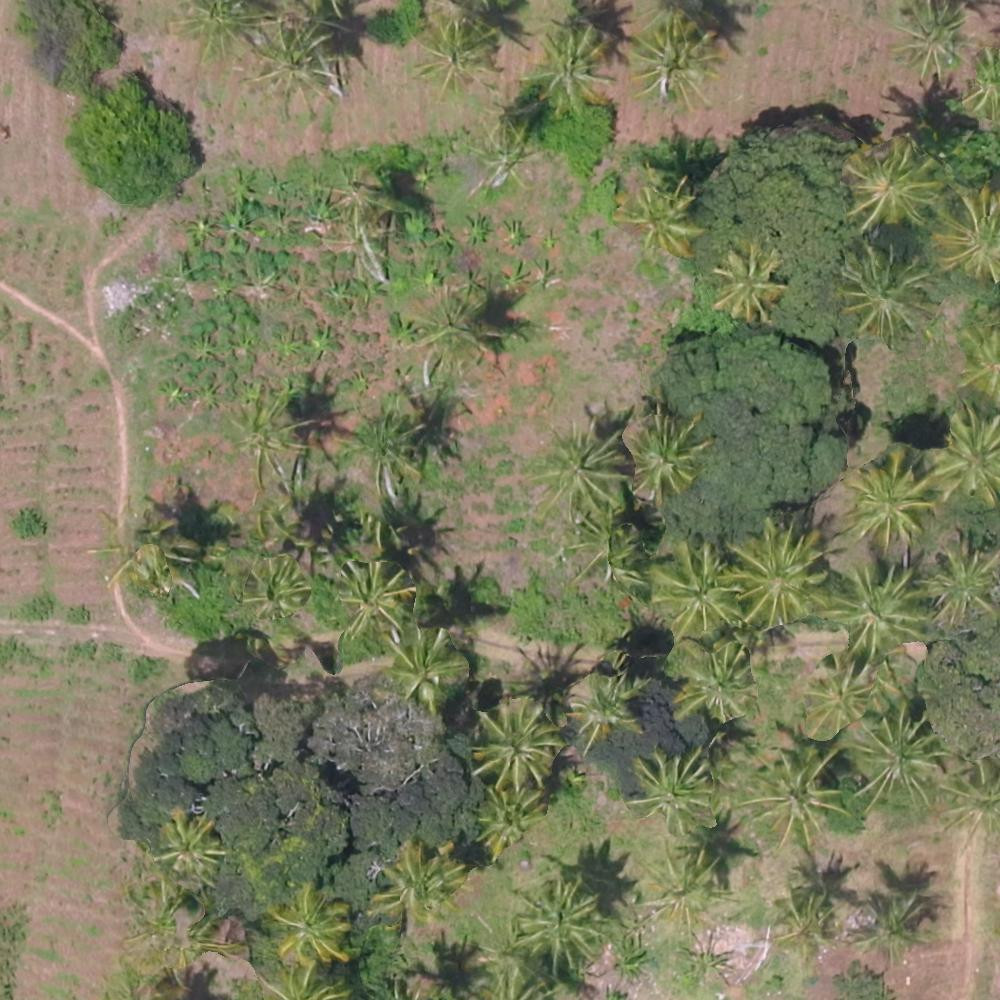Palm: (742, 743, 845, 851), (728, 521, 827, 623), (829, 563, 924, 661), (850, 713, 942, 811), (841, 245, 930, 341), (246, 19, 337, 108), (517, 874, 605, 963), (650, 546, 740, 633), (534, 424, 622, 511), (475, 700, 562, 785), (848, 455, 932, 543), (524, 26, 612, 110), (372, 841, 460, 923), (626, 747, 711, 831), (849, 140, 936, 222), (221, 399, 304, 481), (669, 640, 754, 719), (631, 26, 718, 102), (645, 844, 726, 923), (933, 184, 1000, 278), (412, 24, 498, 97), (621, 178, 701, 256), (270, 884, 347, 963), (893, 4, 974, 79), (935, 409, 1000, 502), (333, 561, 408, 639), (630, 413, 703, 493), (925, 546, 996, 626), (386, 626, 463, 698), (763, 888, 836, 961), (715, 244, 784, 317), (151, 813, 226, 879), (240, 555, 310, 621), (572, 676, 644, 740), (855, 892, 922, 960), (474, 786, 540, 855), (799, 663, 868, 728)
